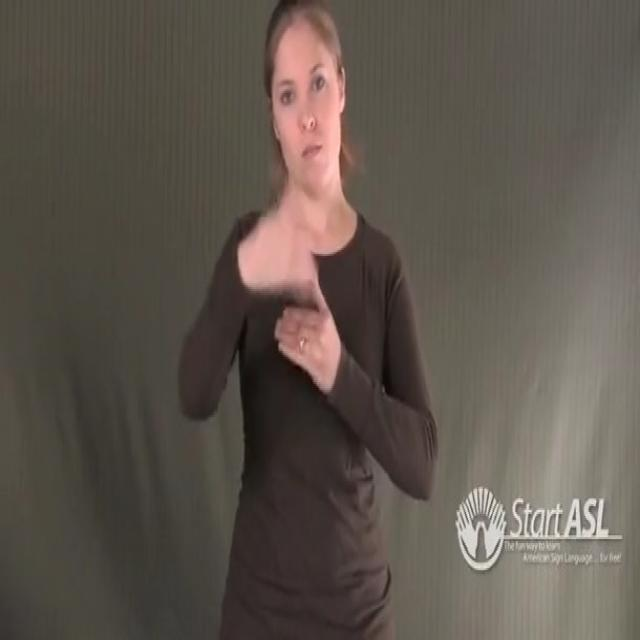bread: (216, 178, 362, 410)
